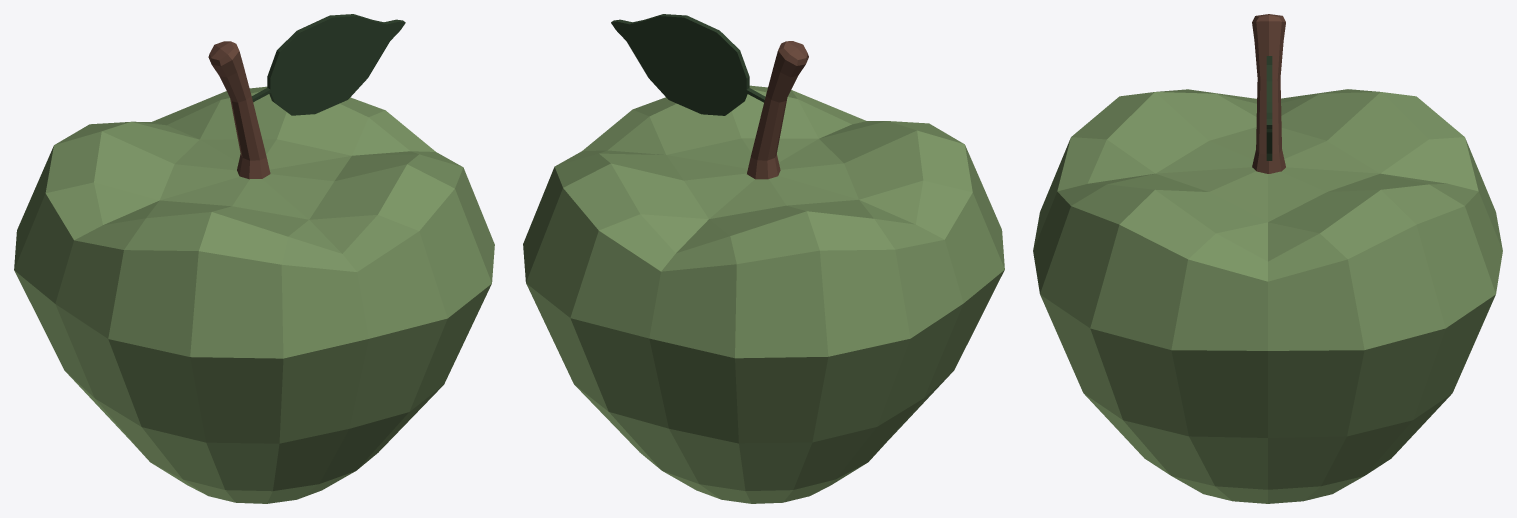
File: AppleGreen.obj
3 renders of one model, left to right at view 1: azimuth 30°, elevation 25°; view 2: azimuth 150°, elevation 25°; view 3: azimuth 270°, elevation 25°, orthographic. The views are drawn at different scales.
Visible parts, largest first — view 1: mesh_0, mesh_2, mesh_1; view 2: mesh_0, mesh_2, mesh_1; view 3: mesh_0, mesh_1, mesh_2.
Boxes of the visible parts, x1,y1,x2,y2 form: mesh_0: [14, 86, 494, 503]; mesh_2: [251, 14, 405, 115]; mesh_1: [208, 41, 270, 179]; mesh_0: [523, 85, 1004, 503]; mesh_2: [611, 14, 765, 115]; mesh_1: [747, 41, 808, 179]; mesh_0: [1033, 89, 1502, 503]; mesh_1: [1252, 14, 1285, 173]; mesh_2: [1266, 56, 1272, 160].
Bounding box in the file's own units: 0.8025 × 0.8517 × 0.7987.
